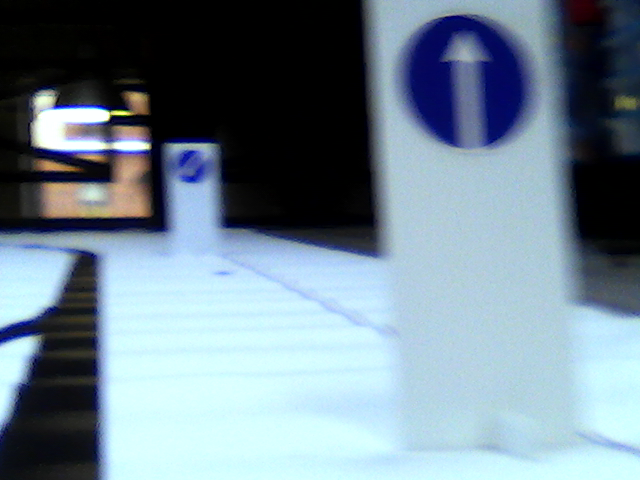forw: (396, 11, 537, 144)
